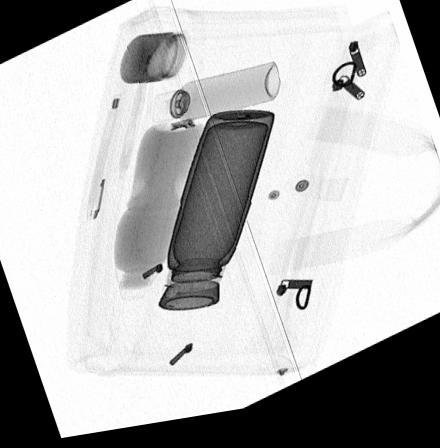Sprayer: (147, 71, 281, 129)
